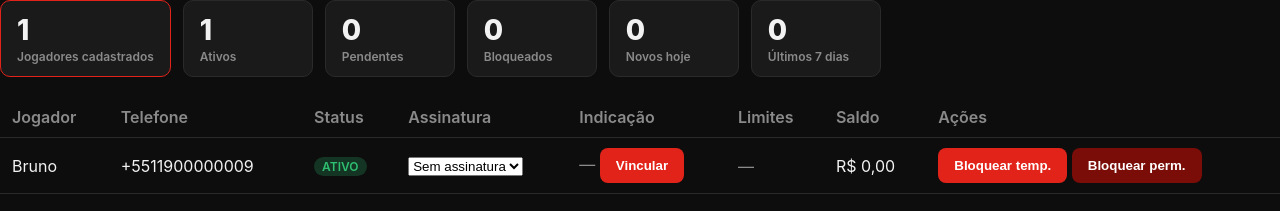
Players tab — agent column › links a player to an agent by code
Click the button "Vincular" at (642, 166), box [600, 148, 684, 183]
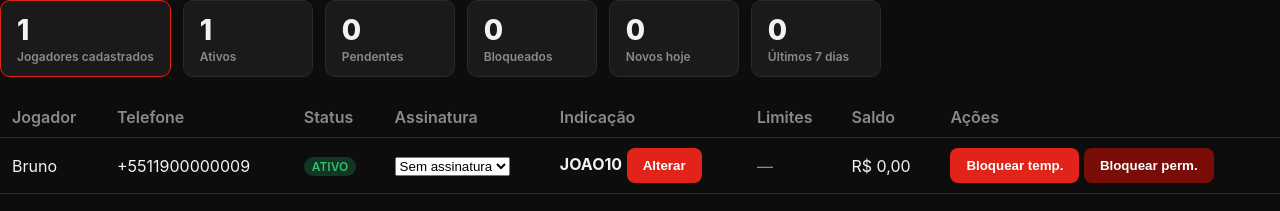
Now the text "JOAO10" is shown, box [560, 154, 622, 174]
Now the button "Alterar" is shown, box [627, 148, 702, 183]
